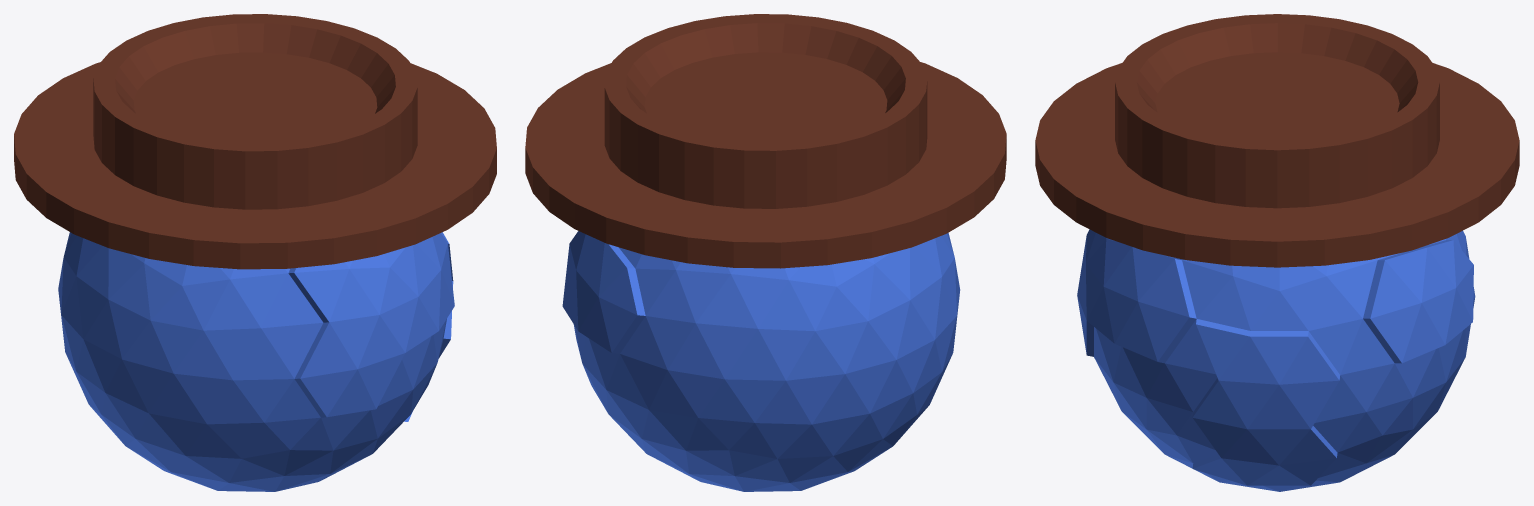
File: şapola.fbx
3 renders of one model, left to right at view 1: azimuth 30°, elevation 25°; view 2: azimuth 150°, elevation 25°; view 3: azimuth 270°, elevation 25°, orthographic.
Visible parts, largest first — view 1: Icosphere; view 2: Icosphere; view 3: Icosphere.
Boxes of the visible parts, x1=… form: Icosphere: x1=14, y1=14, x2=496, y2=491; Icosphere: x1=525, y1=14, x2=1006, y2=491; Icosphere: x1=1035, y1=14, x2=1519, y2=491.
Bounding box in the file's own units: 783 × 704 × 788.
